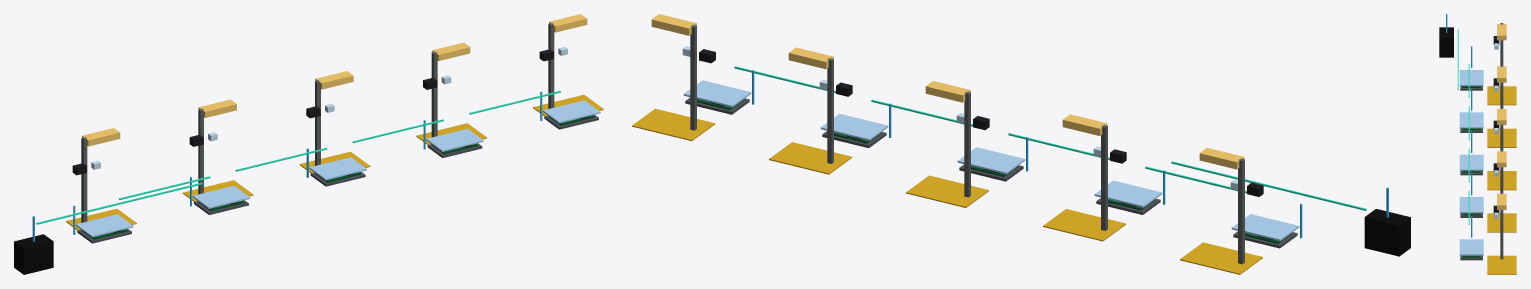
The model's file is relightx_five_node_network.obj.
3 renders of one model, left to right at view 1: azimuth 30°, elevation 25°; view 2: azimuth 150°, elevation 25°; view 3: azimuth 270°, elevation 25°, orthographic. The views are drawn at different scales.
Visible parts, largest first — view 1: industrial_plc_rtu_gateway, rlx_n02_cover, rlx_n01_cover, rlx_n03_cover, rlx_n04_cover, rlx_n05_cover, rlx_n01_pole, rlx_n05_pole, rlx_n04_pole, gateway_to_node_wireless_backhaul, rlx_n03_pole, rlx_n02_pole (+10 smaller); view 2: industrial_plc_rtu_gateway, rlx_n04_light_pool, rlx_n05_light_pool, rlx_n03_light_pool, rlx_n01_light_pool, rlx_n02_light_pool, rlx_n05_cover, rlx_n03_cover, rlx_n04_cover, rlx_n02_cover, rlx_n01_cover, rlx_n01_pole (+10 smaller); view 3: rlx_n05_light_pool, rlx_n03_light_pool, rlx_n01_light_pool, rlx_n04_light_pool, rlx_n02_light_pool, industrial_plc_rtu_gateway, rlx_n05_cover, rlx_n02_cover, rlx_n03_cover, rlx_n04_cover, rlx_n01_cover, rlx_n05_pole (+19 smaller).
Boxes of the visible parts, box(x1,y1,x2,y2) form: industrial_plc_rtu_gateway: box(14, 234, 53, 274); rlx_n02_cover: box(192, 186, 250, 208); rlx_n01_cover: box(76, 214, 133, 237); rlx_n03_cover: box(309, 157, 366, 180); rlx_n04_cover: box(426, 128, 483, 151); rlx_n05_cover: box(543, 100, 600, 123); rlx_n01_pole: box(81, 137, 87, 222); rlx_n05_pole: box(548, 23, 554, 108); rlx_n04_pole: box(431, 51, 437, 137); gateway_to_node_wireless_backhaul: box(36, 182, 202, 224); rlx_n03_pole: box(315, 80, 320, 165); rlx_n02_pole: box(198, 108, 203, 194); industrial_plc_rtu_gateway: box(1364, 209, 1410, 256); rlx_n04_light_pool: box(769, 142, 852, 174); rlx_n05_light_pool: box(632, 108, 715, 140); rlx_n03_light_pool: box(906, 175, 988, 207); rlx_n01_light_pool: box(1180, 242, 1262, 274); rlx_n02_light_pool: box(1043, 209, 1125, 241); rlx_n05_cover: box(683, 80, 751, 107); rlx_n03_cover: box(957, 147, 1025, 174); rlx_n04_cover: box(820, 113, 888, 140); rlx_n02_cover: box(1094, 180, 1162, 207); rlx_n01_cover: box(1231, 214, 1299, 241); rlx_n01_pole: box(1238, 158, 1244, 264); rlx_n05_light_pool: box(1487, 255, 1516, 274); rlx_n03_light_pool: box(1487, 171, 1516, 190); rlx_n01_light_pool: box(1487, 86, 1516, 105); rlx_n04_light_pool: box(1487, 213, 1516, 232); rlx_n02_light_pool: box(1487, 128, 1516, 147); industrial_plc_rtu_gateway: box(1439, 27, 1453, 57); rlx_n05_cover: box(1459, 239, 1483, 255); rlx_n02_cover: box(1459, 112, 1483, 128); rlx_n03_cover: box(1459, 154, 1483, 170); rlx_n04_cover: box(1459, 197, 1483, 213); rlx_n01_cover: box(1459, 70, 1483, 85); rlx_n05_pole: box(1500, 192, 1503, 259).
Bounding box in the file's own units: 16.51 × 2.3 × 2.42.
